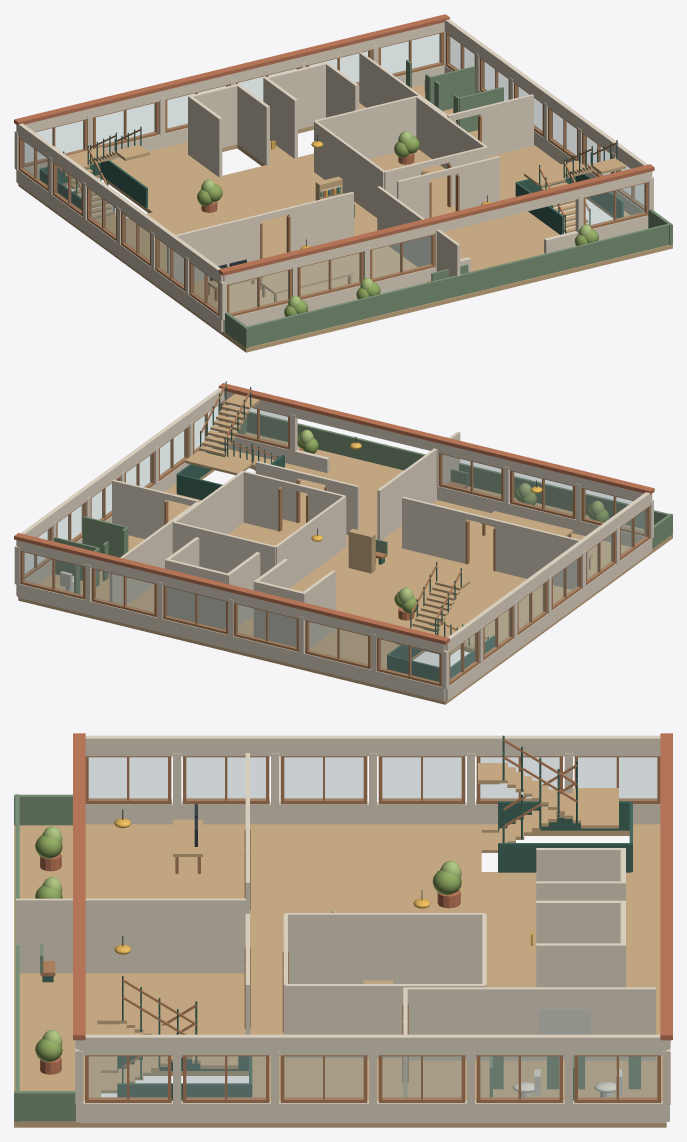
Rendered from campus-5F.glb.
3 views of the same model, one above another, from view 1: azimuth 30°, elevation 25°; view 2: azimuth 150°, elevation 25°; view 3: azimuth 270°, elevation 25° (orthographic). The views are drawn at different scales.
Parts seen in each view (by area): view 1: Inside_cream_5F, Inside_oak_5F, Shell_cream_5F, Shell_glass_5F, Shell_sage_5F, Shell_wood_5F, Shell_clay_5F, Inside_deep_5F, Inside_sage_5F, Inside_wood_5F, Shell_leaf_5F, Inside_leaf_5F; view 2: Inside_cream_5F, Shell_cream_5F, Inside_oak_5F, Shell_glass_5F, Shell_wood_5F, Shell_clay_5F, Shell_sage_5F, Inside_deep_5F, Inside_sage_5F, Inside_wood_5F, Shell_leaf_5F; view 3: Inside_oak_5F, Inside_cream_5F, Shell_cream_5F, Shell_glass_5F, Shell_wood_5F, Shell_clay_5F, Inside_deep_5F, Shell_sage_5F, Inside_wood_5F, Inside_sage_5F, Inside_glass_5F, Shell_leaf_5F (+2 smaller).
Boxes of the visible parts, x1,y1,x2,y2 form: Inside_cream_5F: [167, 52, 533, 284]; Inside_oak_5F: [18, 84, 672, 352]; Shell_cream_5F: [14, 19, 653, 332]; Shell_glass_5F: [21, 34, 644, 313]; Shell_sage_5F: [224, 209, 672, 348]; Shell_wood_5F: [18, 32, 648, 316]; Shell_clay_5F: [14, 14, 654, 275]; Inside_deep_5F: [39, 126, 623, 234]; Inside_sage_5F: [320, 59, 503, 216]; Inside_wood_5F: [75, 115, 617, 301]; Shell_leaf_5F: [284, 229, 598, 316]; Inside_leaf_5F: [197, 136, 419, 205]; Inside_cream_5F: [109, 431, 588, 648]; Shell_cream_5F: [14, 388, 653, 701]; Inside_oak_5F: [18, 394, 672, 704]; Shell_glass_5F: [23, 405, 647, 682]; Shell_wood_5F: [20, 401, 649, 686]; Shell_clay_5F: [14, 383, 654, 644]; Shell_sage_5F: [229, 411, 672, 548]; Inside_deep_5F: [176, 381, 494, 681]; Inside_sage_5F: [54, 516, 387, 593]; Inside_wood_5F: [164, 383, 590, 639]; Shell_leaf_5F: [297, 433, 609, 522]; Inside_oak_5F: [14, 763, 666, 1127]; Inside_cream_5F: [16, 753, 655, 1097]; Shell_cream_5F: [75, 735, 670, 1123]; Shell_glass_5F: [89, 757, 656, 1098]; Shell_wood_5F: [40, 756, 661, 1102]; Shell_clay_5F: [40, 733, 672, 1074]; Inside_deep_5F: [117, 735, 632, 1100]; Shell_sage_5F: [14, 794, 75, 1121]; Inside_wood_5F: [121, 739, 577, 1082]; Inside_sage_5F: [331, 911, 640, 1100]; Inside_glass_5F: [539, 1009, 590, 1034]; Shell_leaf_5F: [35, 835, 62, 1062].
Size of the model in its own units: 26.3 by 4.94 by 24.23.
